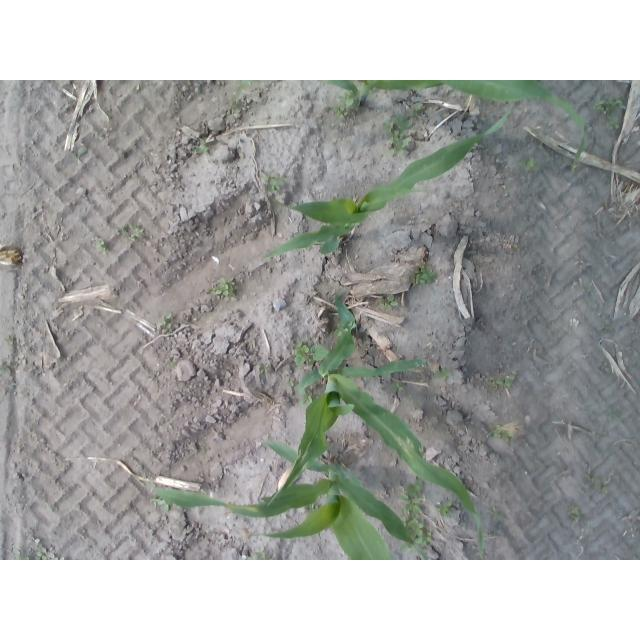Maize: (267, 293, 485, 559), (262, 103, 521, 261), (149, 440, 428, 561), (230, 80, 587, 170)
Weeds: (401, 480, 425, 502), (391, 130, 409, 157), (214, 278, 235, 297), (295, 340, 309, 367), (605, 96, 626, 113), (434, 499, 453, 517), (394, 114, 414, 130), (405, 500, 423, 517), (380, 295, 399, 310), (407, 520, 422, 538), (415, 531, 434, 545), (129, 225, 148, 239), (525, 158, 540, 173), (265, 175, 278, 192), (310, 347, 327, 360), (94, 237, 106, 255), (492, 507, 505, 523), (421, 269, 435, 283), (605, 116, 620, 129), (340, 94, 354, 107), (434, 369, 450, 380), (498, 375, 514, 386), (258, 362, 271, 375), (160, 315, 172, 329), (0, 361, 12, 374), (334, 106, 346, 119), (116, 224, 129, 236), (14, 355, 28, 366), (597, 320, 611, 331), (410, 103, 423, 114), (197, 139, 207, 153), (588, 475, 602, 485), (607, 407, 617, 421), (412, 271, 421, 286), (593, 100, 604, 112), (383, 122, 393, 134), (487, 377, 498, 387), (166, 360, 178, 369), (4, 338, 16, 347), (336, 328, 349, 336), (602, 363, 611, 374), (503, 433, 514, 442), (257, 552, 268, 561), (391, 384, 403, 392), (197, 447, 208, 454), (288, 378, 296, 387), (571, 506, 579, 514), (495, 429, 502, 437), (602, 486, 609, 494), (417, 262, 425, 267)
